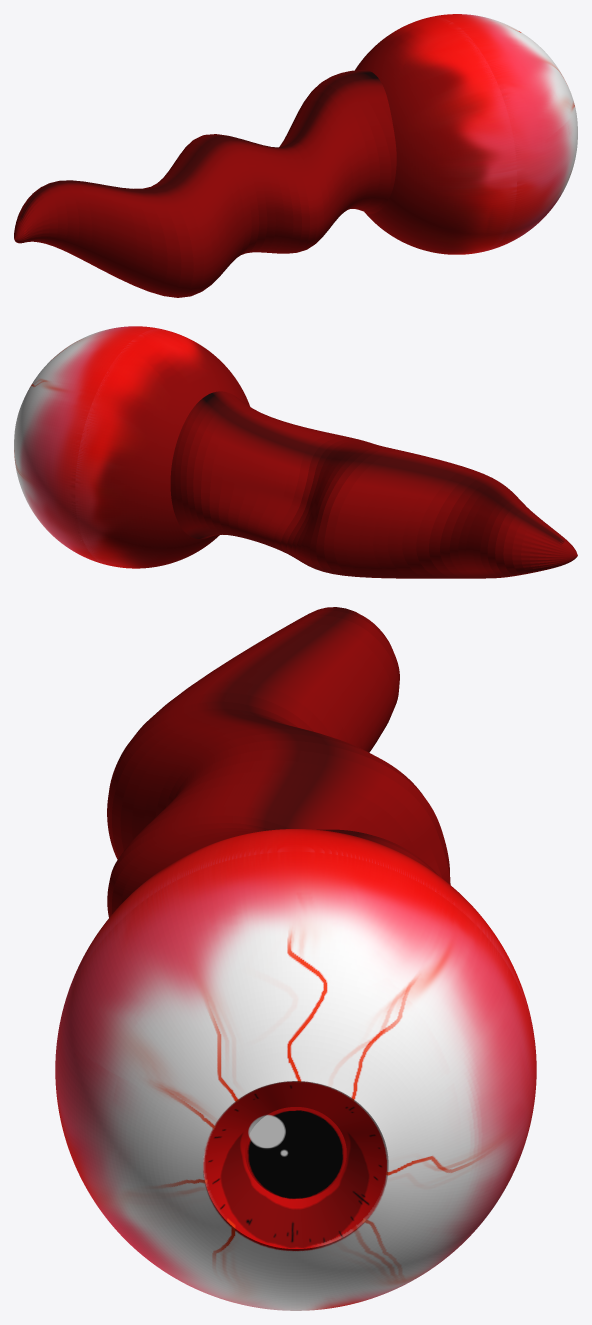
3 renders of one model, top to bottom at view 1: azimuth 30°, elevation 25°; view 2: azimuth 150°, elevation 25°; view 3: azimuth 270°, elevation 25°, orthographic. The views are drawn at different scales.
Visible parts, largest first — view 1: 円柱, 球; view 2: 円柱, 球; view 3: 球, 円柱, 球.002, 円.
Part boxes in pixels (bbox=[...]): 円柱: bbox=[14, 70, 396, 297]; 球: bbox=[355, 14, 577, 254]; 円柱: bbox=[170, 391, 577, 578]; 球: bbox=[14, 326, 250, 568]; 球: bbox=[55, 829, 536, 1310]; 円柱: bbox=[107, 607, 450, 917]; 球.002: bbox=[203, 1081, 388, 1248]; 円: bbox=[245, 1107, 346, 1198].
Size of the model in its own units: 510 by 197 by 197.
Materials: 1 (1 with a texture image).
